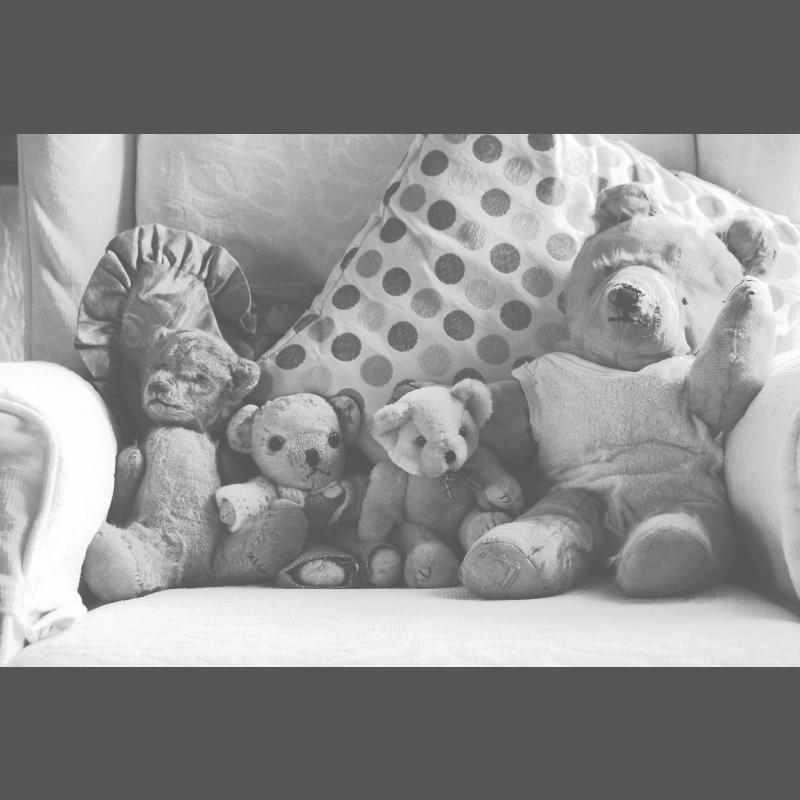pillow: (247, 134, 799, 461)
